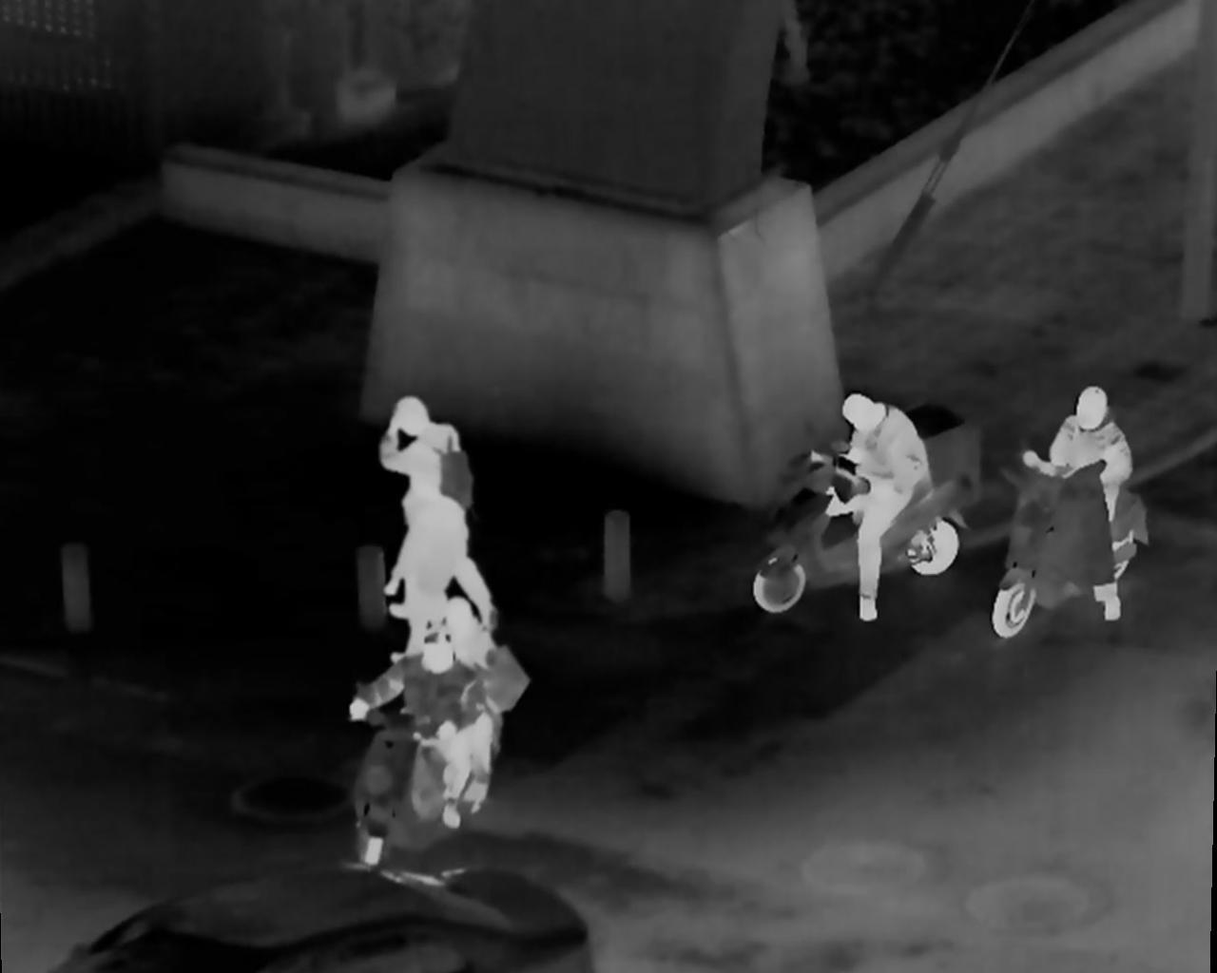person: (1027, 388, 1131, 635), (832, 391, 933, 607), (412, 609, 501, 819), (394, 449, 473, 646), (389, 397, 459, 488)
